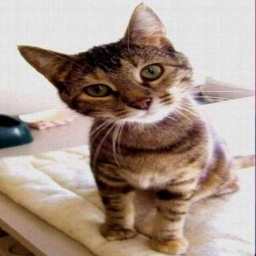cat: (17, 3, 241, 251)
